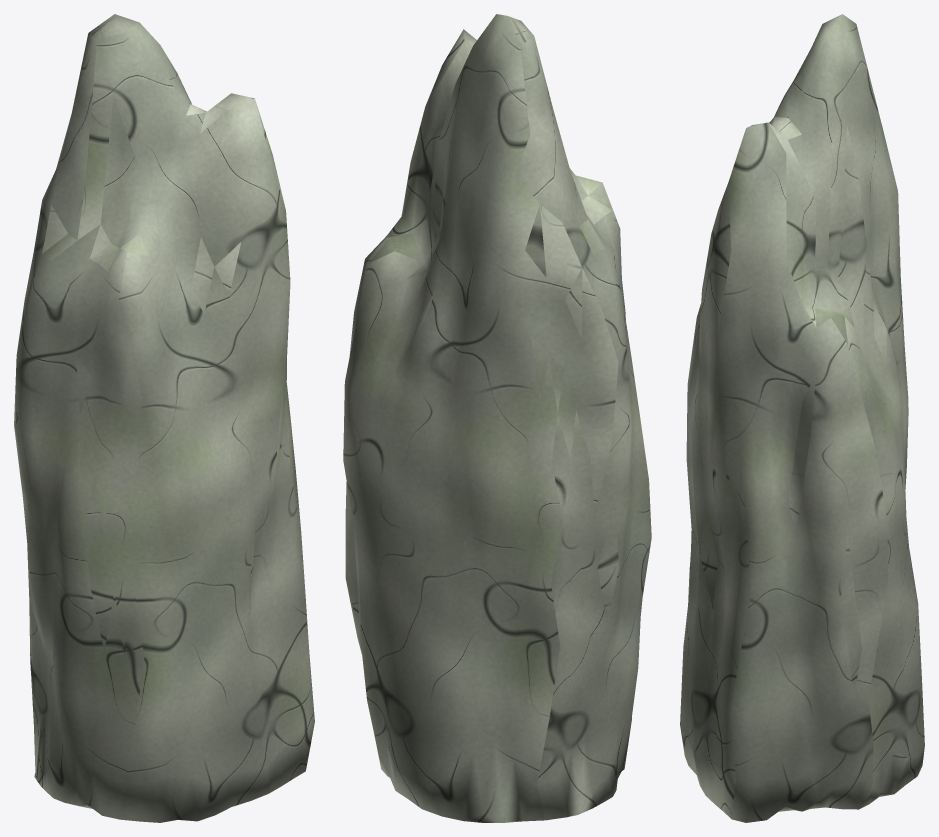
Rendered from cliff_col_b.glb.
3 renders of one model, left to right at view 1: azimuth 30°, elevation 25°; view 2: azimuth 150°, elevation 25°; view 3: azimuth 270°, elevation 25°, orthographic. The views are drawn at different scales.
Parts seen in each view (by area): view 1: cliff_col_b; view 2: cliff_col_b; view 3: cliff_col_b.
Boxes of the visible parts, <box> form: cliff_col_b: <box>14,14,314,822</box>; cliff_col_b: <box>343,14,651,822</box>; cliff_col_b: <box>680,14,924,822</box>.
Size of the model in its own units: 1.2 by 3.22 by 0.9658.
1 material, 1 textured.
